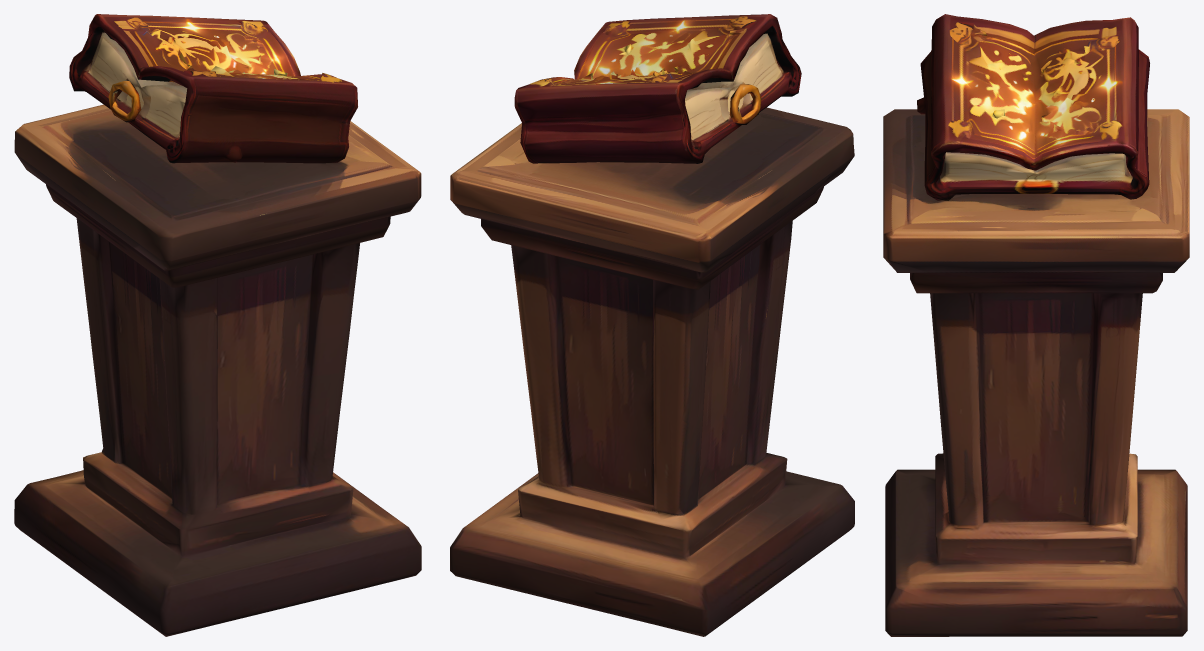
The model's file is spellbook+lectern+3d+model.obj.
3 views of the same model, side by side, from view 1: azimuth 30°, elevation 25°; view 2: azimuth 150°, elevation 25°; view 3: azimuth 270°, elevation 25° (orthographic).
Parts seen in each view (by area): view 1: tripo_node_46e0f462-8fa9-4cf0-91ae-906a1de60118; view 2: tripo_node_46e0f462-8fa9-4cf0-91ae-906a1de60118; view 3: tripo_node_46e0f462-8fa9-4cf0-91ae-906a1de60118.
Part boxes in pixels (x1=…): tripo_node_46e0f462-8fa9-4cf0-91ae-906a1de60118: x1=14, y1=14, x2=421, y2=636; tripo_node_46e0f462-8fa9-4cf0-91ae-906a1de60118: x1=450, y1=14, x2=854, y2=636; tripo_node_46e0f462-8fa9-4cf0-91ae-906a1de60118: x1=883, y1=14, x2=1189, y2=636.
Size of the model in its own units: 0.5202 by 1 by 0.5286.
1 material, 1 textured.
